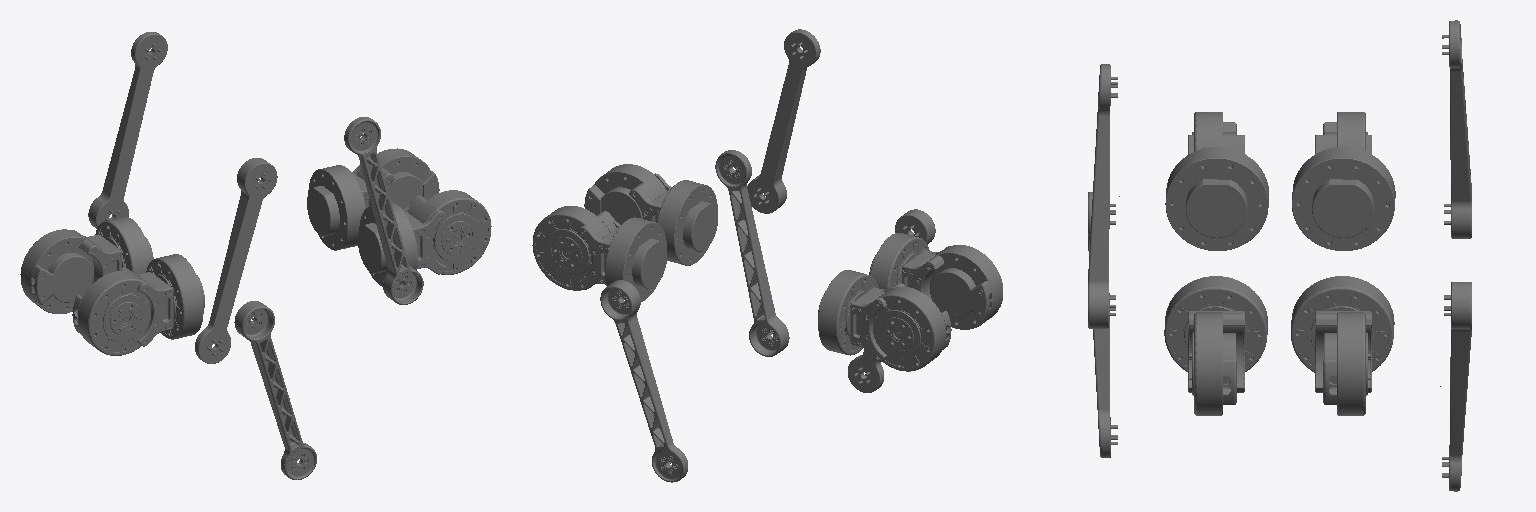
--- Facts derived from the render (not from the file) ---
3 views of the same robot in one strip: view 1: azimuth 30°, elevation 25°; view 2: azimuth 150°, elevation 25°; view 3: azimuth 270°, elevation 25° (orthographic).
Robot: quadruped — 42 links, 41 joints (24 revolute, 17 fixed); root link base_link; default pose: all joints at 0 but 8 set to mid-range because 0 is outside their limits (rear_left_third_joint = 3.11, rear_left_fourth_joint = -1.85, rear_right_third_joint = 3.11, rear_right_fourth_joint = -1.85, front_right_third_joint = 3.11, front_right_fourth_joint = -1.85, +2 more).
Links seen in each view (by area): view 1: rear_right_second_link, rear_left_second_link, front_right_second_link, front_left_fifth_link, rear_left_fifth_link, front_right_fifth_link, rear_right_fifth_link, front_left_first_link, rear_right_first_link, front_left_second_link, front_right_first_link, rear_left_first_link; view 2: rear_left_second_link, rear_right_second_link, front_left_second_link, rear_left_fifth_link, front_left_fifth_link, front_right_fifth_link, front_right_first_link, front_left_first_link, front_right_second_link, rear_left_first_link, rear_right_fifth_link, rear_right_first_link; view 3: rear_left_first_link, rear_right_first_link, front_right_second_link, front_left_second_link, front_left_first_link, front_right_first_link, front_right_fifth_link, rear_left_fifth_link, front_left_fifth_link, rear_right_fifth_link, rear_left_second_link, rear_right_second_link.
Boxes of the visible links, x1,y1,x2,y2 form: rear_right_second_link: (72,267,173,355); rear_left_second_link: (20,229,121,313); front_right_second_link: (403,190,491,274); front_left_fifth_link: (195,158,277,363); rear_left_fifth_link: (88,32,167,228); front_right_fifth_link: (344,117,423,304); rear_right_fifth_link: (234,301,316,479); front_left_first_link: (307,165,365,250); rear_right_first_link: (146,254,204,339); front_left_second_link: (352,148,439,208); front_right_first_link: (358,202,417,286); rear_left_first_link: (95,217,153,273); rear_left_second_link: (850,283,951,371); rear_right_second_link: (902,245,1002,329); front_left_second_link: (532,206,620,290); rear_left_fifth_link: (715,150,789,356); front_left_fifth_link: (600,280,687,482); front_right_fifth_link: (747,29,820,213); front_right_first_link: (657,180,717,265); front_left_first_link: (605,217,666,301); front_right_second_link: (584,164,671,224); rear_left_first_link: (818,270,878,355); rear_right_fifth_link: (848,209,935,392); rear_right_first_link: (869,233,929,289); rear_left_first_link: (1292,147,1395,250); rear_right_first_link: (1165,147,1268,250); front_right_second_link: (1188,311,1244,415); front_left_second_link: (1315,311,1371,415); front_left_first_link: (1291,276,1394,372); front_right_first_link: (1164,276,1267,371); front_right_fifth_link: (1088,64,1117,328); rear_left_fifth_link: (1442,20,1471,238); front_left_fifth_link: (1442,282,1471,491); rear_right_fifth_link: (1088,192,1117,457); rear_left_second_link: (1315,112,1371,153); rear_right_second_link: (1188,112,1244,154).
Size in the robot's own frame: 0.5491 by 0.3655 by 0.4488 metres.
12 mesh visuals loaded from 7 distinct referenced files (3 Collada DAE); not drawn: 13 (reference not matched to a file when rendering).

URDF robot description (quadruped):
<?xml version="1.0" ?>
<!-- =================================================================================== -->
<!-- |    This document was autogenerated by xacro from src/quadruped_robot_description/urdf/quadruped_robot.urdf.xacro | -->
<!-- |    EDITING THIS FILE BY HAND IS NOT RECOMMENDED                                 | -->
<!-- =================================================================================== -->
<robot name="quadruped">
  <gazebo>
    <plugin filename="ign_ros2_control-system" name="ign_ros2_control::IgnitionROS2ControlPlugin">
      <parameters>[local-path]/Documents/quadruped_robot/install/quadruped_controller/share/quadruped_controller/config/jtc_controllers.yaml</parameters>
    </plugin>
    <plugin filename="libignition-gazebo-detachable-joint-system.so" name="ignition::gazebo::systems::DetachableJoint">
      <parent_link>rear_left_foot_link</parent_link>
      <child_model>4BarBot</child_model>
      <child_link>rear_left_chain_close_b_link</child_link>
      <attach_topic>close_loop</attach_topic>
    </plugin>
    <!-- <plugin filename="libattach-links.so" name="ignition::gazebo::::systems::AttachLinks">
      <parent>rear_left_chain_close_a_link</parent>
      <child>rear_left_chain_close_b_link</child>
    </plugin> -->
  </gazebo>
  <mujoco>
    <compiler balanceinertia="true" discardvisual="false" meshdir="[local-path]/Documents/quadruped_robot/install/quadruped_robot_description/share/quadruped_robot_description/meshes"/>
  </mujoco>
  <material name="grey">
    <color rgba="0.5 0.5 0.5 1"/>
  </material>
  <link name="base_link">
    <visual>
      <origin rpy="0 0 3.141592653589793" xyz="0.0 0 0"/>
      <geometry name="base_link">
        <mesh filename="package://quadruped_robot_description/meshes/base_link.dae"/>
      </geometry>
      <material name="grey">
        <color rgba="0.5 0.5 0.5 1.0"/>
      </material>
    </visual>
    <collision>
      <origin rpy="0 0 3.141592653589793" xyz="0.0 0 0"/>
      <geometry name="base_link">
        <mesh filename="package://quadruped_robot_description/meshes/base_link.dae"/>
      </geometry>
    </collision>
    <inertial>
      <origin rpy="0.0 0.0 0.0" xyz="0.01 0 0.06"/>
      <mass value="50.0"/>
      <inertia ixx="0.2526041666666667" ixy="0.0" ixz="0.0" iyy="1.4920833333333334" iyz="0.0" izz="1.6613541666666667"/>
    </inertial>
  </link>
  <link name="imu_link"/>
  <joint name="imu_joint" type="fixed">
    <parent link="base_link"/>
    <child link="imu_link"/>
    <origin rpy=" 0.0 3.141592653589793 0.0" xyz="0.0 0.0 0.1"/>
  </joint>
  <!-- Define the thigh -->
  <link name="rear_left_leg_base_link"/>
  <!-- Define the joints -->
  <joint name="rear_left_base_to_leg_joint" type="fixed">
    <parent link="base_link"/>
    <child link="rear_left_leg_base_link"/>
    <origin rpy="0 0 3.141592653589793" xyz="-0.131 0.06 0.06"/>
  </joint>
  <link name="rear_left_first_link">
    <visual>
      <origin rpy="0 0 0" xyz="0.0 0 0.0"/>
      <geometry>
        <mesh filename="package://quadruped_robot_description/meshes/first_link.dae"/>
      </geometry>
      <material name="grey">
        <color rgba="0.5 0.5 0.5 1.0"/>
      </material>
    </visual>
    <collision name="rear_left_first_link_collision">
      <origin rpy="0 0 0" xyz="0.0 0 0.0"/>
      <geometry>
        <mesh filename="package://quadruped_robot_description/meshes/first_link.dae"/>
      </geometry>
    </collision>
    <inertial>
      <origin rpy="0.0 0.0 0.0" xyz="0.0 0.0 0.0"/>
      <mass value="0.6"/>
      <inertia ixx="0.0004550000000000001" ixy="0" ixz="0" iyy="0.0004550000000000001" iyz="0" izz="0.00075"/>
    </inertial>
  </link>
  <joint name="rear_left_leg_base_to_first_link_joint" type="fixed">
    <parent link="rear_left_leg_base_link"/>
    <child link="rear_left_first_link"/>
    <origin rpy="-1.5707963267948966 0.0 0.0" xyz="0.0 0.0 0.0"/>
  </joint>
  <link name="rear_left_second_link">
    <visual>
      <origin rpy="0 0 0" xyz="0.0 0 0.0"/>
      <geometry>
        <mesh filename="package://quadruped_robot_description/meshes/second_link.dae"/>
      </geometry>
      <material name="grey">
        <color rgba="0.5 0.5 0.5 1.0"/>
      </material>
    </visual>
    <collision name="rear_left_second_link_collision">
      <origin rpy="0 0 0" xyz="0.0 0 0.0"/>
      <geometry>
        <mesh filename="package://quadruped_robot_description/meshes/second_link.dae"/>
      </geometry>
    </collision>
    <inertial>
      <origin rpy="0.0 0.0 0.0" xyz="0.055 0  0"/>
      <mass value="0.6"/>
      <inertia ixx="0.0004550000000000001" ixy="0" ixz="0" iyy="0.0004550000000000001" iyz="0" izz="0.00075"/>
    </inertial>
  </link>
  <joint name="rear_left_first_joint" type="revolute">
    <parent link="rear_left_first_link"/>
    <child link="rear_left_second_link"/>
    <origin rpy="3.141592653589793 0.0 0.0" xyz="0.031 0.0 0.0"/>
    <axis xyz="1 0 0"/>
    <limit effort="100.0" lower="-3.1416" upper="3.1416" velocity="0.1"/>
    <dynamics damping="0.1" friction="0.1"/>
  </joint>
  <link name="rear_left_third_link">
    <visual>
      <origin rpy="0 0 0" xyz="0.0 0 0.0"/>
      <geometry>
        <mesh filename="package://quadruped_robot_description/meshes/third_link.dae"/>
      </geometry>
      <material name="grey">
        <color rgba="0.5 0.5 0.5 1.0"/>
      </material>
    </visual>
    <collision name="rear_left_third_link_collision">
      <origin rpy="0 0 0" xyz="0.0 0 0.0"/>
      <geometry>
        <mesh filename="package://quadruped_robot_description/meshes/third_link.dae"/>
      </geometry>
    </collision>
    <inertial>
      <origin rpy="0.0 0.0 0.0" xyz="0.0 0  0.025"/>
      <mass value="0.6"/>
      <inertia ixx="0.0004550000000000001" ixy="0" ixz="0" iyy="0.0004550000000000001" iyz="0" izz="0.00075"/>
    </inertial>
  </link>
  <joint name="rear_left_second_joint" type="revolute">
    <parent link="rear_left_second_link"/>
    <child link="rear_left_third_link"/>
    <origin rpy="0.0 0.0 3.141592653589793 " xyz="0.064 0.0 0.023"/>
    <axis xyz="0 0 -1"/>
    <limit effort="100.0" lower="-3.14" upper="3.14" velocity="0.1"/>
    <dynamics damping="0.1" friction="0.1"/>
  </joint>
  <link name="rear_left_fourth_link">
    <visual>
      <origin rpy="0 0 0" xyz="0.0 0 0.0"/>
      <geometry>
        <mesh filename="package://quadruped_robot_description/meshes/fourth_link.dae"/>
      </geometry>
      <material name="grey">
        <color rgba="0.5 0.5 0.5 1.0"/>
      </material>
    </visual>
    <collision name="rear_left_fourth_link_collision">
      <origin rpy="0 0 0" xyz="0.0 0 0.0"/>
      <geometry>
        <mesh filename="package://quadruped_robot_description/meshes/fourth_link.dae"/>
      </geometry>
    </collision>
    <inertial>
      <origin rpy="0.0 0.0 0.0" xyz="0.0625 0.0  0.015"/>
      <mass value="0.04"/>
      <inertia ixx="3.1041666666666677e-06" ixy="0.0" ixz="0.0" iyy="0.00010310416666666667" iyz="0.0" izz="0.00010416666666666666"/>
    </inertial>
  </link>
  <joint name="rear_left_third_joint" type="revolute">
    <parent link="rear_left_third_link"/>
    <child link="rear_left_fourth_link"/>
    <origin rpy="0.0 0.0 -3.1415800872191793" xyz="0.0 0.0 0.0555"/>
    <axis xyz="0 0 1"/>
    <limit effort="100.0" lower="0.425" upper="5.8" velocity="0.1"/>
    <!-- <limit effort="100.0" lower="0.425" upper="5.0" velocity="0.1"/> -->
    <dynamics damping="0.1" friction="0.1"/>
  </joint>
  <link name="rear_left_fifth_link">
    <visual>
      <origin rpy="0 0 0" xyz="0.0 0 0.0"/>
      <geometry>
        <mesh filename="package://quadruped_robot_description/meshes/fifth_link.dae"/>
      </geometry>
      <material name="grey">
        <color rgba="0.5 0.5 0.5 1.0"/>
      </material>
    </visual>
    <collision name="rear_left_fifth_link_collision">
      <origin rpy="0 0 0" xyz="0.0 0 0.0"/>
      <geometry>
        <mesh filename="package://quadruped_robot_description/meshes/fifth_link.dae"/>
      </geometry>
    </collision>
    <inertial>
      <origin rpy="0.0 0.0 0.0" xyz="0.105 0  0.0"/>
      <mass value="0.05"/>
      <inertia ixx="7.942708333333334e-06" ixy="0.0" ixz="0.0" iyy="0.0002616927083333333" iyz="0.0" izz="0.00026708333333333337"/>
    </inertial>
  </link>
  <joint name="rear_left_fourth_joint" type="revolute">
    <parent link="rear_left_fourth_link"/>
    <child link="rear_left_fifth_link"/>
    <origin rpy="0.0 0.0 3.141592653589793" xyz="0.125 0.0 0.0255"/>
    <axis xyz="0 0 -1"/>
    <limit effort="  2.0" lower="-0.8" upper="-2.9" velocity="0.1"/>
    <!-- <limit effort="  2.0" lower="-0.3" upper="-2.9" velocity="0.1"/> -->
    <dynamics damping="0.1" friction="0.1"/>
  </joint>
  <link name="rear_left_sixth_link">
    <visual>
      <origin rpy="0 0 0" xyz="0.0 0 0.0"/>
      <geometry>
        <mesh filename="package://quadruped_robot_description/meshes/sixth_link.dae"/>
      </geometry>
      <material name="grey">
        <color rgba="0.5 0.5 0.5 1.0"/>
      </material>
    </visual>
    <collision name="rear_left_sixth_link_collision">
      <origin rpy="0 0 0" xyz="0.0 0 0.0"/>
      <geometry>
        <mesh filename="package://quadruped_robot_description/meshes/sixth_link.dae"/>
      </geometry>
    </collision>
    <inertial>
      <origin rpy="0.0 0.0 0.0" xyz="0.105 0  0.0"/>
      <mass value="0.05"/>
      <inertia ixx="7.942708333333334e-06" ixy="0.0" ixz="0.0" iyy="0.0002616927083333333" iyz="0.0" izz="0.00026708333333333337"/>
    </inertial>
  </link>
  <joint name="rear_left_fifth_joint" type="revolute">
    <parent link="rear_left_third_link"/>
    <child link="rear_left_sixth_link"/>
    <origin rpy="0.0 0.0 0.0" xyz="-0.125 0.0 0.058"/>
    <axis xyz="0 0 -1"/>
    <limit effort="100.0" lower="-3.14" upper="3.14" velocity="0.1"/>
    <!-- <limit effort="100.0" lower="0.28" upper="2.73" velocity="0.1"/> -->
    <dynamics damping="0.1" friction="0.1"/>
  </joint>
  <link name="rear_left_foot_link">
    <visual>
      <origin rpy=" 0 0 0" xyz="0.0 0.0  0.0 "/>
      <geometry>
        <box size="0.0001 0.0001 0.0001 "/>
      </geometry>
      <material name="grey">
        <color rgba="0.5 0.5 0.5 1.0"/>
      </material>
    </visual>
    <collision name="rear_left_foot_link_collision">
      <origin rpy=" 0 0 0" xyz="0.0 0.0  0.0 "/>
      <geometry>
        <box size="0.0001 0.0001 0.0001 "/>
      </geometry>
    </collision>
    <inertial>
      <mass value="2e-06"/>
      <inertia ixx="1.1e-09" ixy="0" ixz="0" iyy="1.1e-09" iyz="0" izz="1.1e-09"/>
    </inertial>
  </link>
  <joint name="rear_left_foot_joint" type="revolute">
    <parent link="rear_left_sixth_link"/>
    <child link="rear_left_foot_link"/>
    <origin rpy="0.0 0.0 0.0" xyz="0.21 0.0 0.0115"/>
    <axis xyz="0 0 1"/>
    <limit effort="100.0" lower="-3.14" upper="3.14" velocity="0.1"/>
    <dynamics damping="0.1" friction="0.1"/>
  </joint>
  <link name="rear_left_chain_close_a_link">
    <visual>
      <origin rpy=" 0 0 0" xyz="0.0 0.0  0.0 "/>
      <geometry>
        <box size="0.0001 0.0001 0.0001 "/>
      </geometry>
      <material name="grey">
        <color rgba="0.5 0.5 0.5 1.0"/>
      </material>
    </visual>
    <collision name="rear_left_chain_close_a_link_collision">
      <origin rpy=" 0 0 0" xyz="0.0 0.0  0.0 "/>
      <geometry>
        <box size="0.0001 0.0001 0.0001 "/>
      </geometry>
    </collision>
    <inertial>
      <mass value="2e-06"/>
      <inertia ixx="1.1e-09" ixy="0" ixz="0" iyy="1.1e-09" iyz="0" izz="1.1e-09"/>
    </inertial>
  </link>
  <joint name="rear_left_chain_close_a_joint" type="fixed">
    <parent link="rear_left_fifth_link"/>
    <child link="rear_left_chain_close_a_link"/>
    <origin rpy="0.0 0.0 0.0" xyz="0.105 0.0 -0.0115"/>
    <axis xyz="0 0 1"/>
  </joint>
  <link name="rear_left_chain_close_b_link">
    <visual>
      <origin rpy=" 0 0 0" xyz="0.0 0.0  0.0 "/>
      <geometry>
        <box size="0.0001 0.0001 0.0001 "/>
      </geometry>
      <material name="grey">
        <color rgba="0.5 0.5 0.5 1.0"/>
      </material>
    </visual>
    <collision name="rear_left_chain_close_b_link_collision">
      <origin rpy=" 0 0 0" xyz="0.0 0.0  0.0 "/>
      <geometry>
        <box size="0.0001 0.0001 0.0001 "/>
      </geometry>
    </collision>
    <inertial>
      <mass value="2e-06"/>
      <inertia ixx="1.1e-09" ixy="0" ixz="0" iyy="1.1e-09" iyz="0" izz="1.1e-09"/>
    </inertial>
  </link>
  <joint name="rear_left_chain_close_b_joint" type="fixed">
    <parent link="rear_left_foot_link"/>
    <child link="rear_left_chain_close_b_link"/>
    <origin rpy="0.0 0.0 0.0" xyz="0.105 0.0 0.0"/>
    <axis xyz="0 0 1"/>
  </joint>
  <!-- Define the thigh -->
  <link name="rear_right_leg_base_link"/>
  <!-- Define the joints -->
  <joint name="rear_right_base_to_leg_joint" type="fixed">
    <parent link="base_link"/>
    <child link="rear_right_leg_base_link"/>
    <origin rpy="0 0 3.141592653589793" xyz="-0.131 -0.06 0.06"/>
  </joint>
  <link name="rear_right_first_link">
    <visual>
      <origin rpy="0 0 0" xyz="0.0 0 0.0"/>
      <geometry>
        <mesh filename="package://quadruped_robot_description/meshes/first_link.dae"/>
      </geometry>
      <material name="grey">
        <color rgba="0.5 0.5 0.5 1.0"/>
      </material>
    </visual>
    <collision name="rear_right_first_link_collision">
      <origin rpy="0 0 0" xyz="0.0 0 0.0"/>
      <geometry>
        <mesh filename="package://quadruped_robot_description/meshes/first_link.dae"/>
      </geometry>
    </collision>
    <inertial>
      <origin rpy="0.0 0.0 0.0" xyz="0.0 0.0 0.0"/>
      <mass value="0.6"/>
      <inertia ixx="0.0004550000000000001" ixy="0" ixz="0" iyy="0.0004550000000000001" iyz="0" izz="0.00075"/>
    </inertial>
  </link>
  <joint name="rear_right_leg_base_to_first_link_joint" type="fixed">
    <parent link="rear_right_leg_base_link"/>
    <child link="rear_right_first_link"/>
    <origin rpy="-1.5707963267948966 0.0 0.0" xyz="0.0 0.0 0.0"/>
  </joint>
  <link name="rear_right_second_link">
    <visual>
      <origin rpy="0 0 0" xyz="0.0 0 0.0"/>
      <geometry>
        <mesh filename="package://quadruped_robot_description/meshes/second_link.dae"/>
      </geometry>
      <material name="grey">
        <color rgba="0.5 0.5 0.5 1.0"/>
      </material>
    </visual>
    <collision name="rear_right_second_link_collision">
      <origin rpy="0 0 0" xyz="0.0 0 0.0"/>
      <geometry>
        <mesh filename="package://quadruped_robot_description/meshes/second_link.dae"/>
      </geometry>
    </collision>
    <inertial>
      <origin rpy="0.0 0.0 0.0" xyz="0.055 0  0"/>
      <mass value="0.6"/>
      <inertia ixx="0.0004550000000000001" ixy="0" ixz="0" iyy="0.0004550000000000001" iyz="0" izz="0.00075"/>
    </inertial>
  </link>
  <joint name="rear_right_first_joint" type="revolute">
    <parent link="rear_right_first_link"/>
    <child link="rear_right_second_link"/>
    <origin rpy="0.0 0.0 0.0" xyz="0.031 0.0 0.0"/>
    <axis xyz="1 0 0"/>
    <limit effort="100.0" lower="-3.1416" upper="3.1416" velocity="0.1"/>
    <dynamics damping="0.1" friction="0.1"/>
  </joint>
  <link name="rear_right_third_link">
    <visual>
      <origin rpy="0 0 0" xyz="0.0 0 0.0"/>
      <geometry>
        <mesh filename="package://quadruped_robot_description/meshes/third_link.dae"/>
      </geometry>
      <material name="grey">
        <color rgba="0.5 0.5 0.5 1.0"/>
      </material>
    </visual>
    <collision name="rear_right_third_link_collision">
      <origin rpy="0 0 0" xyz="0.0 0 0.0"/>
      <geometry>
        <mesh filename="package://quadruped_robot_description/meshes/third_link.dae"/>
      </geometry>
    </collision>
    <inertial>
      <origin rpy="0.0 0.0 0.0" xyz="0.0 0  0.025"/>
      <mass value="0.6"/>
      <inertia ixx="0.0004550000000000001" ixy="0" ixz="0" iyy="0.0004550000000000001" iyz="0" izz="0.00075"/>
    </inertial>
  </link>
  <joint name="rear_right_second_joint" type="revolute">
    <parent link="rear_right_second_link"/>
    <child link="rear_right_third_link"/>
    <origin rpy="0.0 0.0 3.141592653589793 " xyz="0.064 0.0 0.023"/>
    <axis xyz="0 0 1"/>
    <limit effort="100.0" lower="-3.14" upper="3.14" velocity="0.1"/>
    <dynamics damping="0.1" friction="0.1"/>
  </joint>
  <link name="rear_right_fourth_link">
    <visual>
      <origin rpy="0 0 0" xyz="0.0 0 0.0"/>
      <geometry>
        <mesh filename="package://quadruped_robot_description/meshes/fourth_link.dae"/>
      </geometry>
      <material name="grey">
        <color rgba="0.5 0.5 0.5 1.0"/>
      </material>
    </visual>
    <collision name="rear_right_fourth_link_collision">
      <origin rpy="0 0 0" xyz="0.0 0 0.0"/>
      <geometry>
        <mesh filename="package://quadruped_robot_description/meshes/fourth_link.dae"/>
      </geometry>
    </collision>
    <inertial>
      <origin rpy="0.0 0.0 0.0" xyz="0.0625 0.0  0.015"/>
      <mass value="0.04"/>
      <inertia ixx="3.1041666666666677e-06" ixy="0.0" ixz="0.0" iyy="0.00010310416666666667" iyz="0.0" izz="0.00010416666666666666"/>
    </inertial>
  </link>
  <joint name="rear_right_third_joint" type="revolute">
    <parent link="rear_right_third_link"/>
    <child link="rear_right_fourth_link"/>
    <origin rpy="0.0 0.0 3.1415800872191793" xyz="0.0 0.0 0.0555"/>
    <axis xyz="0 0 -1"/>
    <limit effort="100.0" lower="0.425" upper="5.8" velocity="0.1"/>
    <dynamics damping="0.1" friction="0.1"/>
  </joint>
  <link name="rear_right_fifth_link">
    <visual>
      <origin rpy="0 0 0" xyz="0.0 0 0.0"/>
      <geometry>
        <mesh filename="package://quadruped_robot_description/meshes/fifth_link.dae"/>
      </geometry>
      <material name="grey">
        <color rgba="0.5 0.5 0.5 1.0"/>
      </material>
    </visual>
    <collision name="rear_right_fifth_link_collision">
      <origin rpy="0 0 0" xyz="0.0 0 0.0"/>
      <geometry>
        <mesh filename="package://quadruped_robot_description/meshes/fifth_link.dae"/>
      </geometry>
    </collision>
    <inertial>
      <origin rpy="0.0 0.0 0.0" xyz="0.105 0  0.0"/>
      <mass value="0.05"/>
      <inertia ixx="7.942708333333334e-06" ixy="0.0" ixz="0.0" iyy="0.0002616927083333333" iyz="0.0" izz="0.00026708333333333337"/>
    </inertial>
  </link>
  <joint name="rear_right_fourth_joint" type="revolute">
    <parent link="rear_right_fourth_link"/>
    <child link="rear_right_fifth_link"/>
    <origin rpy="0.0 0.0 3.141592653589793" xyz="0.125 0.0 0.0255"/>
    <axis xyz="0 0 -1"/>
    <limit effort="  2.0" lower="-0.8" upper="-2.9" velocity="0.1"/>
    <dynamics damping="0.1" friction="0.1"/>
  </joint>
  <link name="rear_right_sixth_link">
    <visual>
      <origin rpy="0 0 0" xyz="0.0 0 0.0"/>
      <geometry>
        <mesh filename="package://quadruped_robot_description/meshes/sixth_link.dae"/>
      </geometry>
      <material name="grey">
        <color rgba="0.5 0.5 0.5 1.0"/>
      </material>
    </visual>
    <collision name="rear_right_sixth_link_collision">
      <origin rpy="0 0 0" xyz="0.0 0 0.0"/>
      <geometry>
        <mesh filename="package://quadruped_robot_description/meshes/sixth_link.dae"/>
      </geometry>
    </collision>
    <inertial>
      <origin rpy="0.0 0.0 0.0" xyz="0.105 0  0.0"/>
      <mass value="0.05"/>
      <inertia ixx="7.942708333333334e-06" ixy="0.0" ixz="0.0" iyy="0.0002616927083333333" iyz="0.0" izz="0.00026708333333333337"/>
    </inertial>
  </link>
  <joint name="rear_right_fifth_joint" type="revolute">
    <parent link="rear_right_third_link"/>
    <child link="rear_right_sixth_link"/>
    <origin rpy="0.0 0.0 0.0" xyz="-0.125 0.0 0.058"/>
    <axis xyz="0 0 -1"/>
    <limit effort="100.0" lower="-3.14" upper="3.14" velocity="0.1"/>
    <dynamics damping="0.1" friction="0.1"/>
  </joint>
  <link name="rear_right_foot_link">
    <visual>
      <origin rpy=" 0 0 0" xyz="0.0 0.0  0.0 "/>
      <geometry>
        <box size="0.0001 0.0001 0.0001 "/>
      </geometry>
      <material name="grey">
        <color rgba="0.5 0.5 0.5 1.0"/>
      </material>
    </visual>
    <collision name="rear_right_foot_link_collision">
      <origin rpy=" 0 0 0" xyz="0.0 0.0  0.0 "/>
      <geometry>
        <box size="0.0001 0.0001 0.0001 "/>
      </geometry>
    </collision>
    <inertial>
      <mass value="2e-06"/>
      <inertia ixx="1.1e-09" ixy="0" ixz="0" iyy="1.1e-09" iyz="0" izz="1.1e-09"/>
    </inertial>
  </link>
  <joint name="rear_right_foot_joint" type="revolute">
    <parent link="rear_right_sixth_link"/>
    <child link="rear_right_foot_link"/>
    <origin rpy="0.0 0.0 0.0" xyz="0.21 0.0 0.0115"/>
    <axis xyz="0 0 1"/>
    <limit effort="100.0" lower="-3.14" upper="3.14" velocity="0.1"/>
    <dynamics damping="0.1" friction="0.1"/>
  </joint>
  <link name="rear_right_chain_close_a_link">
    <visual>
      <origin rpy=" 0 0 0" xyz="0.0 0.0  0.0 "/>
      <geometry>
        <box size="0.0001 0.0001 0.0001 "/>
      </geometry>
      <material name="grey">
        <color rgba="0.5 0.5 0.5 1.0"/>
      </material>
    </visual>
    <collision name="rear_right_chain_close_a_link_collision">
      <origin rpy=" 0 0 0" xyz="0.0 0.0  0.0 "/>
      <geometry>
        <box size="0.0001 0.0001 0.0001 "/>
      </geometry>
    </collision>
    <inertial>
      <mass value="2e-06"/>
      <inertia ixx="1.1e-09" ixy="0" ixz="0" iyy="1.1e-09" iyz="0" izz="1.1e-09"/>
    </inertial>
  </link>
  <joint name="rear_right_chain_close_a_joint" type="fixed">
    <parent link="rear_right_fifth_link"/>
    <child link="rear_right_chain_close_a_link"/>
    <origin rpy="0.0 0.0 0.0" xyz="0.105 0.0 -0.0115"/>
    <axis xyz="0 0 1"/>
  </joint>
  <link name="rear_right_chain_close_b_link">
    <visual>
      <origin rpy=" 0 0 0" xyz="0.0 0.0  0.0 "/>
      <geometry>
        <box size="0.0001 0.0001 0.0001 "/>
      </geometry>
      <material name="grey">
        <color rgba="0.5 0.5 0.5 1.0"/>
      </material>
    </visual>
    <collision name="rear_right_chain_close_b_link_collision">
      <origin rpy=" 0 0 0" xyz="0.0 0.0  0.0 "/>
      <geometry>
        <box size="0.0001 0.0001 0.0001 "/>
      </geometry>
    </collision>
    <inertial>
      <mass value="2e-06"/>
      <inertia ixx="1.1e-09" ixy="0" ixz="0" iyy="1.1e-09" iyz="0" izz="1.1e-09"/>
    </inertial>
  </link>
  <joint name="rear_right_chain_close_b_joint" type="fixed">
    <parent link="rear_right_foot_link"/>
    <child link="rear_right_chain_close_b_link"/>
    <origin rpy="0.0 0.0 0.0" xyz="0.105 0.0 0.0"/>
    <axis xyz="0 0 1"/>
  </joint>
  <!-- Define the thigh -->
  <link name="front_right_leg_base_link"/>
  <!-- Define the joints -->
  <joint name="front_right_base_to_leg_joint" type="fixed">
    <parent link="base_link"/>
    <child link="front_right_leg_base_link"/>
    <origin rpy="0 0 0" xyz="0.131 -0.06 0.06"/>
  </joint>
  <link name="front_right_first_link">
    <visual>
      <origin rpy="0 0 0" xyz="0.0 0 0.0"/>
      <geometry>
        <mesh filename="package://quadruped_robot_description/meshes/first_link.dae"/>
      </geometry>
      <material name="grey">
        <color rgba="0.5 0.5 0.5 1.0"/>
      </material>
    </visual>
    <collision name="front_right_first_link_collision">
      <origin rpy="0 0 0" xyz="0.0 0 0.0"/>
      <geometry>
        <mesh filename="package://quadruped_robot_description/meshes/first_link.dae"/>
      </geometry>
    </collision>
    <inertial>
      <origin rpy="0.0 0.0 0.0" xyz="0.0 0.0 0.0"/>
      <mass value="0.6"/>
      <inertia ixx="0.0004550000000000001" ixy="0" ixz="0" iyy="0.0004550000000000001" iyz="0" izz="0.00075"/>
    </inertial>
  </link>
  <joint name="front_right_leg_base_to_first_link_joint" type="fixed">
    <parent link="front_right_leg_base_link"/>
    <child link="front_right_first_link"/>
    <origin rpy="-1.5707963267948966 0.0 0.0" xyz="0.0 0.0 0.0"/>
  </joint>
  <link name="front_right_second_link">
    <visual>
      <origin rpy="0 0 0" xyz="0.0 0 0.0"/>
      <geometry>
        <mesh filename="package://quadruped_robot_description/meshes/second_link.dae"/>
      </geometry>
      <material name="grey">
        <color rgba="0.5 0.5 0.5 1.0"/>
      </material>
    </visual>
    <collision name="front_right_second_link_collision">
      <origin rpy="0 0 0" xyz="0.0 0 0.0"/>
      <geometry>
        <mesh filename="package://quadruped_robot_description/meshes/second_link.dae"/>
      </geometry>
    </collision>
    <inertial>
      <origin rpy="0.0 0.0 0.0" xyz="0.055 0  0"/>
      <mass value="0.6"/>
      <inertia ixx="0.0004550000000000001" ixy="0" ixz="0" iyy="0.0004550000000000001" iyz="0" izz="0.00075"/>
    </inertial>
  </link>
  <joint name="front_right_first_joint" type="revolute">
    <parent link="front_right_first_link"/>
    <child link="front_right_second_link"/>
    <origin rpy="3.141592653589793 0.0 0.0" xyz="0.031 0.0 0.0"/>
    <axis xyz="1 0 0"/>
    <limit effort="100.0" lower="-3.1416" upper="3.1416" velocity="0.1"/>
    <dynamics damping="0.1" friction="0.1"/>
  </joint>
  <link name="front_right_third_link">
    <visual>
      <origin rpy="0 0 0" xyz="0.0 0 0.0"/>
      <geometry>
        <mesh filename="package://quadruped_robot_description/meshes/third_link.dae"/>
      </geometry>
      <material name="grey">
        <color rgba="0.5 0.5 0.5 1.0"/>
      </material>
    </visual>
    <collision name="front_right_third_link_collision">
      <origin rpy="0 0 0" xyz="0.0 0 0.0"/>
      <geometry>
        <mesh filename="package://quadruped_robot_description/meshes/third_link.dae"/>
      </geometry>
    </collision>
    <inertial>
      <origin rpy="0.0 0.0 0.0" xyz="0.0 0  0.025"/>
      <mass value="0.6"/>
      <inertia ixx="0.0004550000000000001" ixy="0" ixz="0" iyy="0.0004550000000000001" iyz="0" izz="0.00075"/>
    </inertial>
  </link>
  <joint name="front_right_second_joint" type="revolute">
    <parent link="front_right_second_link"/>
    <child link="front_right_third_link"/>
    <origin rpy="0.0 0.0 3.141592653589793 " xyz="0.064 0.0 0.023"/>
    <axis xyz="0 0 -1"/>
    <limit effort="100.0" lower="-3.14" upper="3.14" velocity="0.1"/>
    <dynamics damping="0.1" friction="0.1"/>
  </joint>
  <link name="front_right_fourth_link">
    <visual>
      <origin rpy="0 0 0" xyz="0.0 0 0.0"/>
      <geometry>
        <mesh filename="package://quadruped_robot_description/meshes/fourth_link.dae"/>
      </geometry>
      <material name="grey">
        <color rgba="0.5 0.5 0.5 1.0"/>
      </material>
    </visual>
    <collision name="front_right_fourth_link_collision">
      <origin rpy="0 0 0" xyz="0.0 0 0.0"/>
      <geometry>
        <mesh filename="package://quadruped_robot_description/meshes/fourth_link.dae"/>
      </geometry>
    </collision>
    <inertial>
      <origin rpy="0.0 0.0 0.0" xyz="0.0625 0.0  0.015"/>
      <mass value="0.04"/>
      <inertia ixx="3.1041666666666677e-06" ixy="0.0" ixz="0.0" iyy="0.00010310416666666667" iyz="0.0" izz="0.00010416666666666666"/>
    </inertial>
  </link>
  <joint name="front_right_third_joint" type="revolute">
    <parent link="front_right_third_link"/>
    <child link="front_right_fourth_link"/>
    <origin rpy="0.0 0.0 -3.1415800872191793" xyz="0.0 0.0 0.0555"/>
    <axis xyz="0 0 1"/>
    <limit effort="100.0" lower="0.425" upper="5.8" velocity="0.1"/>
    <dynamics damping="0.1" friction="0.1"/>
  </joint>
  <link name="front_right_fifth_link">
    <visual>
      <origin rpy="0 0 0" xyz="0.0 0 0.0"/>
      <geometry>
        <mesh filename="package://quadruped_robot_description/meshes/fifth_link.dae"/>
      </geometry>
      <material name="grey">
        <color rgba="0.5 0.5 0.5 1.0"/>
      </material>
    </visual>
    <collision name="front_right_fifth_link_collision">
      <origin rpy="0 0 0" xyz="0.0 0 0.0"/>
      <geometry>
        <mesh filename="package://quadruped_robot_description/meshes/fifth_link.dae"/>
      </geometry>
    </collision>
    <inertial>
      <origin rpy="0.0 0.0 0.0" xyz="0.105 0  0.0"/>
      <mass value="0.05"/>
      <inertia ixx="7.942708333333334e-06" ixy="0.0" ixz="0.0" iyy="0.0002616927083333333" iyz="0.0" izz="0.00026708333333333337"/>
    </inertial>
  </link>
  <joint name="front_right_fourth_joint" type="revolute">
    <parent link="front_right_fourth_link"/>
    <child link="front_right_fifth_link"/>
    <origin rpy="0.0 0.0 3.141592653589793" xyz="0.125 0.0 0.0255"/>
    <axis xyz="0 0 -1"/>
    <limit effort="  2.0" lower="-0.8" upper="-2.9" velocity="0.1"/>
    <dynamics damping="0.1" friction="0.1"/>
  </joint>
  <link name="front_right_sixth_link">
    <visual>
      <origin rpy="0 0 0" xyz="0.0 0 0.0"/>
      <geometry>
        <mesh filename="package://quadruped_robot_description/meshes/sixth_link.dae"/>
      </geometry>
      <material name="grey">
        <color rgba="0.5 0.5 0.5 1.0"/>
      </material>
    </visual>
    <collision name="front_right_sixth_link_collision">
      <origin rpy="0 0 0" xyz="0.0 0 0.0"/>
      <geometry>
        <mesh filename="package://quadruped_robot_description/meshes/sixth_link.dae"/>
      </geometry>
    </collision>
    <inertial>
      <origin rpy="0.0 0.0 0.0" xyz="0.105 0  0.0"/>
      <mass value="0.05"/>
      <inertia ixx="7.942708333333334e-06" ixy="0.0" ixz="0.0" iyy="0.0002616927083333333" iyz="0.0" izz="0.00026708333333333337"/>
    </inertial>
  </link>
  <joint name="front_right_fifth_joint" type="revolute">
    <parent link="front_right_third_link"/>
    <child link="front_right_sixth_link"/>
    <origin rpy="0.0 0.0 0.0" xyz="-0.125 0.0 0.058"/>
    <axis xyz="0 0 -1"/>
    <limit effort="100.0" lower="-3.14" upper="3.14" velocity="0.1"/>
    <dynamics damping="0.1" friction="0.1"/>
  </joint>
  <link name="front_right_foot_link">
    <visual>
      <origin rpy=" 0 0 0" xyz="0.0 0.0  0.0 "/>
      <geometry>
        <box size="0.0001 0.0001 0.0001 "/>
      </geometry>
      <material name="grey">
        <color rgba="0.5 0.5 0.5 1.0"/>
      </material>
    </visual>
    <collision name="front_right_foot_link_collision">
      <origin rpy=" 0 0 0" xyz="0.0 0.0  0.0 "/>
      <geometry>
        <box size="0.0001 0.0001 0.0001 "/>
      </geometry>
    </collision>
    <inertial>
      <mass value="2e-06"/>
      <inertia ixx="1.1e-09" ixy="0" ixz="0" iyy="1.1e-09" iyz="0" izz="1.1e-09"/>
    </inertial>
  </link>
  <joint name="front_right_foot_joint" type="revolute">
    <parent link="front_right_sixth_link"/>
    <child link="front_right_foot_link"/>
    <origin rpy="0.0 0.0 0.0" xyz="0.21 0.0 0.0115"/>
    <axis xyz="0 0 1"/>
    <limit effort="100.0" lower="-3.14" upper="3.14" velocity="0.1"/>
    <dynamics damping="0.1" friction="0.1"/>
  </joint>
  <link name="front_right_chain_close_a_link">
    <visual>
      <origin rpy=" 0 0 0" xyz="0.0 0.0  0.0 "/>
      <geometry>
        <box size="0.0001 0.0001 0.0001 "/>
      </geometry>
      <material name="grey">
        <color rgba="0.5 0.5 0.5 1.0"/>
      </material>
    </visual>
    <collision name="front_right_chain_close_a_link_collision">
      <origin rpy=" 0 0 0" xyz="0.0 0.0  0.0 "/>
      <geometry>
        <box size="0.0001 0.0001 0.0001 "/>
      </geometry>
    </collision>
    <inertial>
      <mass value="2e-06"/>
      <inertia ixx="1.1e-09" ixy="0" ixz="0" iyy="1.1e-09" iyz="0" izz="1.1e-09"/>
    </inertial>
  </link>
  <joint name="front_right_chain_close_a_joint" type="fixed">
    <parent link="front_right_fifth_link"/>
    <child link="front_right_chain_close_a_link"/>
    <origin rpy="0.0 0.0 0.0" xyz="0.105 0.0 -0.0115"/>
    <axis xyz="0 0 1"/>
  </joint>
  <link name="front_right_chain_close_b_link">
    <visual>
      <origin rpy=" 0 0 0" xyz="0.0 0.0  0.0 "/>
      <geometry>
        <box size="0.0001 0.0001 0.0001 "/>
      </geometry>
      <material name="grey">
        <color rgba="0.5 0.5 0.5 1.0"/>
      </material>
    </visual>
    <collision name="front_right_chain_close_b_link_collision">
      <origin rpy=" 0 0 0" xyz="0.0 0.0  0.0 "/>
      <geometry>
        <box size="0.0001 0.0001 0.0001 "/>
      </geometry>
    </collision>
    <inertial>
      <mass value="2e-06"/>
      <inertia ixx="1.1e-09" ixy="0" ixz="0" iyy="1.1e-09" iyz="0" izz="1.1e-09"/>
    </inertial>
  </link>
  <joint name="front_right_chain_close_b_joint" type="fixed">
    <parent link="front_right_foot_link"/>
    <child link="front_right_chain_close_b_link"/>
    <origin rpy="0.0 0.0 0.0" xyz="0.105 0.0 0.0"/>
    <axis xyz="0 0 1"/>
  </joint>
  <!-- Define the thigh -->
  <link name="front_left_leg_base_link"/>
  <!-- Define the joints -->
  <joint name="front_left_base_to_leg_joint" type="fixed">
    <parent link="base_link"/>
    <child link="front_left_leg_base_link"/>
    <origin rpy="0 0 0" xyz="0.131 0.06 0.06"/>
  </joint>
  <link name="front_left_first_link">
    <visual>
      <origin rpy="0 0 0" xyz="0.0 0 0.0"/>
      <geometry>
        <mesh filename="package://quadruped_robot_description/meshes/first_link.dae"/>
      </geometry>
      <material name="grey">
        <color rgba="0.5 0.5 0.5 1.0"/>
      </material>
    </visual>
    <collision name="front_left_first_link_collision">
      <origin rpy="0 0 0" xyz="0.0 0 0.0"/>
      <geometry>
        <mesh filename="package://quadruped_robot_description/meshes/first_link.dae"/>
      </geometry>
    </collision>
    <inertial>
      <origin rpy="0.0 0.0 0.0" xyz="0.0 0.0 0.0"/>
      <mass value="0.6"/>
      <inertia ixx="0.0004550000000000001" ixy="0" ixz="0" iyy="0.0004550000000000001" iyz="0" izz="0.00075"/>
    </inertial>
  </link>
  <joint name="front_left_leg_base_to_first_link_joint" type="fixed">
    <parent link="front_left_leg_base_link"/>
    <child link="front_left_first_link"/>
    <origin rpy="-1.5707963267948966 0.0 0.0" xyz="0.0 0.0 0.0"/>
  </joint>
  <link name="front_left_second_link">
    <visual>
      <origin rpy="0 0 0" xyz="0.0 0 0.0"/>
      <geometry>
        <mesh filename="package://quadruped_robot_description/meshes/second_link.dae"/>
      </geometry>
      <material name="grey">
        <color rgba="0.5 0.5 0.5 1.0"/>
      </material>
    </visual>
    <collision name="front_left_second_link_collision">
      <origin rpy="0 0 0" xyz="0.0 0 0.0"/>
      <geometry>
        <mesh filename="package://quadruped_robot_description/meshes/second_link.dae"/>
      </geometry>
    </collision>
    <inertial>
      <origin rpy="0.0 0.0 0.0" xyz="0.055 0  0"/>
      <mass value="0.6"/>
      <inertia ixx="0.0004550000000000001" ixy="0" ixz="0" iyy="0.0004550000000000001" iyz="0" izz="0.00075"/>
    </inertial>
  </link>
  <joint name="front_left_first_joint" type="revolute">
    <parent link="front_left_first_link"/>
    <child link="front_left_second_link"/>
    <origin rpy="0.0 0.0 0.0" xyz="0.031 0.0 0.0"/>
    <axis xyz="1 0 0"/>
    <limit effort="100.0" lower="-3.1416" upper="3.1416" velocity="0.1"/>
    <dynamics damping="0.1" friction="0.1"/>
  </joint>
  <link name="front_left_third_link">
    <visual>
      <origin rpy="0 0 0" xyz="0.0 0 0.0"/>
      <geometry>
        <mesh filename="package://quadruped_robot_description/meshes/third_link.dae"/>
      </geometry>
      <material name="grey">
        <color rgba="0.5 0.5 0.5 1.0"/>
      </material>
    </visual>
    <collision name="front_left_third_link_collision">
      <origin rpy="0 0 0" xyz="0.0 0 0.0"/>
      <geometry>
        <mesh filename="package://quadruped_robot_description/meshes/third_link.dae"/>
      </geometry>
    </collision>
    <inertial>
      <origin rpy="0.0 0.0 0.0" xyz="0.0 0  0.025"/>
      <mass value="0.6"/>
      <inertia ixx="0.0004550000000000001" ixy="0" ixz="0" iyy="0.0004550000000000001" iyz="0" izz="0.00075"/>
    </inertial>
  </link>
  <joint name="front_left_second_joint" type="revolute">
    <parent link="front_left_second_link"/>
    <child link="front_left_third_link"/>
    <origin rpy="0.0 0.0 3.141592653589793 " xyz="0.064 0.0 0.023"/>
    <axis xyz="0 0 1"/>
    <limit effort="100.0" lower="-3.14" upper="3.14" velocity="0.1"/>
    <dynamics damping="0.1" friction="0.1"/>
  </joint>
  <link name="front_left_fourth_link">
    <visual>
      <origin rpy="0 0 0" xyz="0.0 0 0.0"/>
      <geometry>
        <mesh filename="package://quadruped_robot_description/meshes/fourth_link.dae"/>
      </geometry>
      <material name="grey">
        <color rgba="0.5 0.5 0.5 1.0"/>
      </material>
    </visual>
    <collision name="front_left_fourth_link_collision">
      <origin rpy="0 0 0" xyz="0.0 0 0.0"/>
      <geometry>
        <mesh filename="package://quadruped_robot_description/meshes/fourth_link.dae"/>
      </geometry>
    </collision>
    <inertial>
      <origin rpy="0.0 0.0 0.0" xyz="0.0625 0.0  0.015"/>
      <mass value="0.04"/>
      <inertia ixx="3.1041666666666677e-06" ixy="0.0" ixz="0.0" iyy="0.00010310416666666667" iyz="0.0" izz="0.00010416666666666666"/>
    </inertial>
  </link>
  <joint name="front_left_third_joint" type="revolute">
    <parent link="front_left_third_link"/>
    <child link="front_left_fourth_link"/>
    <origin rpy="0.0 0.0 3.1415800872191793" xyz="0.0 0.0 0.0555"/>
    <axis xyz="0 0 -1"/>
    <limit effort="100.0" lower="0.425" upper="5.8" velocity="0.1"/>
    <dynamics damping="0.1" friction="0.1"/>
  </joint>
  <link name="front_left_fifth_link">
    <visual>
      <origin rpy="0 0 0" xyz="0.0 0 0.0"/>
      <geometry>
        <mesh filename="package://quadruped_robot_description/meshes/fifth_link.dae"/>
      </geometry>
      <material name="grey">
        <color rgba="0.5 0.5 0.5 1.0"/>
      </material>
    </visual>
    <collision name="front_left_fifth_link_collision">
      <origin rpy="0 0 0" xyz="0.0 0 0.0"/>
      <geometry>
        <mesh filename="package://quadruped_robot_description/meshes/fifth_link.dae"/>
      </geometry>
    </collision>
    <inertial>
      <origin rpy="0.0 0.0 0.0" xyz="0.105 0  0.0"/>
      <mass value="0.05"/>
      <inertia ixx="7.942708333333334e-06" ixy="0.0" ixz="0.0" iyy="0.0002616927083333333" iyz="0.0" izz="0.00026708333333333337"/>
    </inertial>
  </link>
  <joint name="front_left_fourth_joint" type="revolute">
    <parent link="front_left_fourth_link"/>
    <child link="front_left_fifth_link"/>
    <origin rpy="0.0 0.0 3.141592653589793" xyz="0.125 0.0 0.0255"/>
    <axis xyz="0 0 -1"/>
    <limit effort="  2.0" lower="-0.8" upper="-2.9" velocity="0.1"/>
    <dynamics damping="0.1" friction="0.1"/>
  </joint>
  <link name="front_left_sixth_link">
    <visual>
      <origin rpy="0 0 0" xyz="0.0 0 0.0"/>
      <geometry>
        <mesh filename="package://quadruped_robot_description/meshes/sixth_link.dae"/>
      </geometry>
      <material name="grey">
        <color rgba="0.5 0.5 0.5 1.0"/>
      </material>
    </visual>
    <collision name="front_left_sixth_link_collision">
      <origin rpy="0 0 0" xyz="0.0 0 0.0"/>
      <geometry>
        <mesh filename="package://quadruped_robot_description/meshes/sixth_link.dae"/>
      </geometry>
    </collision>
    <inertial>
      <origin rpy="0.0 0.0 0.0" xyz="0.105 0  0.0"/>
      <mass value="0.05"/>
      <inertia ixx="7.942708333333334e-06" ixy="0.0" ixz="0.0" iyy="0.0002616927083333333" iyz="0.0" izz="0.00026708333333333337"/>
    </inertial>
  </link>
  <joint name="front_left_fifth_joint" type="revolute">
    <parent link="front_left_third_link"/>
    <child link="front_left_sixth_link"/>
    <origin rpy="0.0 0.0 0.0" xyz="-0.125 0.0 0.058"/>
    <axis xyz="0 0 -1"/>
    <limit effort="100.0" lower="-3.14" upper="3.14" velocity="0.1"/>
    <dynamics damping="0.1" friction="0.1"/>
  </joint>
  <link name="front_left_foot_link">
    <visual>
      <origin rpy=" 0 0 0" xyz="0.0 0.0  0.0 "/>
      <geometry>
        <box size="0.0001 0.0001 0.0001 "/>
      </geometry>
      <material name="grey">
        <color rgba="0.5 0.5 0.5 1.0"/>
      </material>
    </visual>
    <collision name="front_left_foot_link_collision">
      <origin rpy=" 0 0 0" xyz="0.0 0.0  0.0 "/>
      <geometry>
        <box size="0.0001 0.0001 0.0001 "/>
      </geometry>
    </collision>
    <inertial>
      <mass value="2e-06"/>
      <inertia ixx="1.1e-09" ixy="0" ixz="0" iyy="1.1e-09" iyz="0" izz="1.1e-09"/>
    </inertial>
  </link>
  <joint name="front_left_foot_joint" type="revolute">
    <parent link="front_left_sixth_link"/>
    <child link="front_left_foot_link"/>
    <origin rpy="0.0 0.0 0.0" xyz="0.21 0.0 0.0115"/>
    <axis xyz="0 0 1"/>
    <limit effort="100.0" lower="-3.14" upper="3.14" velocity="0.1"/>
    <dynamics damping="0.1" friction="0.1"/>
  </joint>
  <link name="front_left_chain_close_a_link">
    <visual>
      <origin rpy=" 0 0 0" xyz="0.0 0.0  0.0 "/>
      <geometry>
        <box size="0.0001 0.0001 0.0001 "/>
      </geometry>
      <material name="grey">
        <color rgba="0.5 0.5 0.5 1.0"/>
      </material>
    </visual>
    <collision name="front_left_chain_close_a_link_collision">
      <origin rpy=" 0 0 0" xyz="0.0 0.0  0.0 "/>
      <geometry>
        <box size="0.0001 0.0001 0.0001 "/>
      </geometry>
    </collision>
    <inertial>
      <mass value="2e-06"/>
      <inertia ixx="1.1e-09" ixy="0" ixz="0" iyy="1.1e-09" iyz="0" izz="1.1e-09"/>
    </inertial>
  </link>
  <joint name="front_left_chain_close_a_joint" type="fixed">
    <parent link="front_left_fifth_link"/>
    <child link="front_left_chain_close_a_link"/>
    <origin rpy="0.0 0.0 0.0" xyz="0.105 0.0 -0.0115"/>
    <axis xyz="0 0 1"/>
  </joint>
  <link name="front_left_chain_close_b_link">
    <visual>
      <origin rpy=" 0 0 0" xyz="0.0 0.0  0.0 "/>
      <geometry>
        <box size="0.0001 0.0001 0.0001 "/>
      </geometry>
      <material name="grey">
        <color rgba="0.5 0.5 0.5 1.0"/>
      </material>
    </visual>
    <collision name="front_left_chain_close_b_link_collision">
      <origin rpy=" 0 0 0" xyz="0.0 0.0  0.0 "/>
      <geometry>
        <box size="0.0001 0.0001 0.0001 "/>
      </geometry>
    </collision>
    <inertial>
      <mass value="2e-06"/>
      <inertia ixx="1.1e-09" ixy="0" ixz="0" iyy="1.1e-09" iyz="0" izz="1.1e-09"/>
    </inertial>
  </link>
  <joint name="front_left_chain_close_b_joint" type="fixed">
    <parent link="front_left_foot_link"/>
    <child link="front_left_chain_close_b_link"/>
    <origin rpy="0.0 0.0 0.0" xyz="0.105 0.0 0.0"/>
    <axis xyz="0 0 1"/>
  </joint>
  <ros2_control name="MD80HardwareInterface" type="system">
    <hardware>
      <plugin>mujoco_ros2_control/MujocoSystem</plugin>
    </hardware>
     <joint name="front_left_first_joint">
      <command_interface name="effort">
          <param name="front_left_first_joint_kp">0.00001</param>
          <param name="kd">0.0</param>
          <param name="ki">0.0</param>
      </command_interface>
      <state_interface name="position">
        <param name="initial_value">0.0</param>
      </state_interface>
      <state_interface name="velocity">
        <param name="initial_value">0.0</param>
        <param name="max">0.1</param>
        <param name="min">-0.1</param>
      </state_interface>
      <state_interface name="effort">
        <param name="initial_value">0.0</param>
      </state_interface>
      <param name="can_id">10</param>
      <param name="max_torque">15.0</param>
      <param name="position_kp">10.0</param>
      <param name="q_ki">0.5</param>
      <param name="position_kd">0.0</param>
      <param name="q_windup">1.0</param>
      <param name="dq_kp">2.0</param>
      <param name="dq_ki">0.5</param>
      <param name="dq_kd">0.0</param>
      <param name="dq_windup">0.1</param>
      <param name="ddq_kp">25</param>
      <param name="ddq_kd">5.0</param>
    </joint>
    <joint name="front_left_second_joint">
      <command_interface name="effort">
        <!-- <param name="front_left_second_joint_kp">0.00001</param> -->
          <param name="kp">0.001</param>
          <param name="kd">1</param>
          <param name="ki">0.1</param>
        </command_interface>
      <state_interface name="position">
        <param name="initial_value">0.0</param>
      </state_interface>
      <state_interface name="velocity">
        <param name="initial_value">0.0</param>
        <param name="max">0.1</param>
        <param name="min">-0.1</param>
      </state_interface>
      <state_interface name="effort">
        <param name="initial_value">0.0</param>
      </state_interface>
      <param name="can_id">11</param>
      <param name="max_torque">10.0</param>
      <param name="position_kp">10.0</param>
      <param name="q_ki">0.5</param>
      <param name="position_kd">0.0</param>
      <param name="q_windup">1.0</param>
      <param name="dq_kp">2.0</param>
      <param name="dq_ki">0.5</param>
      <param name="dq_kd">0.0</param>
      <param name="dq_windup">0.1</param>
      <param name="ddq_kp">7.5</param>
      <param name="ddq_kd">1.0</param>
    </joint>
    <joint name="front_left_third_joint">
      <command_interface name="effort">
          <param name="kp">10</param>
          <param name="kd">1</param>
          <param name="ki">0.1</param>
      </command_interface>
      <state_interface name="position">
        <param name="initial_value">2.82</param>
      </state_interface>
      <state_interface name="velocity">
        <param name="initial_value">0.0</param>
      </state_interface>
      <state_interface name="effort">
        <param name="initial_value">0.0</param>
      </state_interface>
      <param name="can_id">12</param>
      <param name="max_torque">10.0</param>
      <param name="position_kp">10.0</param>
      <param name="q_ki">0.5</param>
      <param name="position_kd">0.0</param>
      <param name="q_windup">1.0</param>
      <param name="dq_kp">2.0</param>
      <param name="dq_ki">0.5</param>
      <param name="dq_kd">0.0</param>
      <param name="dq_windup">0.1</param>
      <param name="ddq_kp">7.5</param>
      <param name="ddq_kd">1.0</param>
    </joint>

    <!-- <joint name="front_left_fourth_joint">
      <state_interface name="position">
      </state_interface>
      <state_interface name="velocity">
        <param name="initial_value">0.0</param>
      </state_interface>
      <state_interface name="effort">
      </state_interface>
    </joint>

    <joint name="front_left_fifth_joint">
      <state_interface name="position">
      </state_interface>
      <state_interface name="velocity">
        <param name="initial_value">0.0</param>
      </state_interface>
      <state_interface name="effort">
      </state_interface>
    </joint> -->

    <joint name="front_right_first_joint">
      <command_interface name="effort"/>
      <state_interface name="position">
        <param name="initial_value">0.0</param>
      </state_interface>
      <state_interface name="velocity">
        <param name="initial_value">0.0</param>
      </state_interface>
      <state_interface name="effort">
        <param name="initial_value">0.0</param>
      </state_interface>
      <param name="can_id">20</param>
      <param name="max_torque">15.0</param>
      <param name="position_kp">10.0</param>
      <param name="q_ki">0.5</param>
      <param name="position_kd">0.0</param>
      <param name="q_windup">1.0</param>
      <param name="dq_kp">2.0</param>
      <param name="dq_ki">0.5</param>
      <param name="dq_kd">0.0</param>
      <param name="dq_windup">0.1</param>
      <param name="ddq_kp">25</param>
      <param name="ddq_kd">5.0</param>
    </joint>
    <joint name="front_right_second_joint">
      <command_interface name="effort"/>
      <state_interface name="position">
        <param name="initial_value">0.4</param>
      </state_interface>
      <state_interface name="velocity">
        <param name="initial_value">0.0</param>
      </state_interface>
      <state_interface name="effort">
        <param name="initial_value">0.0</param>
      </state_interface>
      <param name="can_id">21</param>
      <param name="max_torque">10.0</param>
      <param name="position_kp">10.0</param>
      <param name="q_ki">0.5</param>
      <param name="position_kd">0.0</param>
      <param name="q_windup">1.0</param>
      <param name="dq_kp">2.0</param>
      <param name="dq_ki">0.5</param>
      <param name="dq_kd">0.0</param>
      <param name="dq_windup">0.1</param>
      <param name="ddq_kp">7.5</param>
      <param name="ddq_kd">1.0</param>
    </joint>
    <joint name="front_right_third_joint">
      <command_interface name="effort"/>
      <state_interface name="position">
        <param name="initial_value">1.42</param>
      </state_interface>
      <state_interface name="velocity">
        <param name="initial_value">0.0</param>
      </state_interface>
      <state_interface name="effort">
        <param name="initial_value">0.0</param>
      </state_interface>
      <param name="can_id">22</param>
      <param name="max_torque">10.0</param>
      <param name="position_kp">10.0</param>
      <param name="q_ki">0.5</param>
      <param name="position_kd">0.0</param>
      <param name="q_windup">1.0</param>
      <param name="dq_kp">2.0</param>
      <param name="dq_ki">0.5</param>
      <param name="dq_kd">0.0</param>
      <param name="dq_windup">0.1</param>
      <param name="ddq_kp">7.5</param>
      <param name="ddq_kd">1.0</param>
    </joint>
    <joint name="rear_right_first_joint">
      <command_interface name="effort"/>
      <state_interface name="position">
        <param name="initial_value">0.0</param>
      </state_interface>
      <state_interface name="velocity">
        <param name="initial_value">0.0</param>
      </state_interface>
      <state_interface name="effort">
        <param name="initial_value">0.0</param>
      </state_interface>
      <param name="can_id">30</param>
      <param name="max_torque">15.0</param>
      <param name="position_kp">10.0</param>
      <param name="q_ki">0.5</param>
      <param name="position_kd">0.0</param>
      <param name="q_windup">1.0</param>
      <param name="dq_kp">2.0</param>
      <param name="dq_ki">0.5</param>
      <param name="dq_kd">0.0</param>
      <param name="dq_windup">0.1</param>
      <param name="ddq_kp">25</param>
      <param name="ddq_kd">5.0</param>
    </joint>
    <joint name="rear_right_second_joint">
      <command_interface name="effort"/>
      <state_interface name="position">
        <param name="initial_value">0.4</param>
      </state_interface>
      <state_interface name="velocity">
        <param name="initial_value">0.0</param>
      </state_interface>
      <state_interface name="effort">
        <param name="initial_value">0.0</param>
      </state_interface>
      <param name="can_id">31</param>
      <param name="max_torque">10.0</param>
      <param name="position_kp">10.0</param>
      <param name="q_ki">0.5</param>
      <param name="position_kd">0.0</param>
      <param name="q_windup">1.0</param>
      <param name="dq_kp">2.0</param>
      <param name="dq_ki">0.5</param>
      <param name="dq_kd">0.0</param>
      <param name="dq_windup">0.1</param>
      <param name="ddq_kp">7.5</param>
      <param name="ddq_kd">1.0</param>
    </joint>
    <joint name="rear_right_third_joint">
      <command_interface name="effort"/>
      <state_interface name="position">
        <param name="initial_value">1.4</param>
      </state_interface>
      <state_interface name="velocity">
        <param name="initial_value">0.0</param>
      </state_interface>
      <state_interface name="effort">
        <param name="initial_value">0.0</param>
      </state_interface>
      <param name="can_id">32</param>
      <param name="max_torque">10.0</param>
      <param name="position_kp">10.0</param>
      <param name="q_ki">0.5</param>
      <param name="position_kd">0.0</param>
      <param name="q_windup">1.0</param>
      <param name="dq_kp">2.0</param>
      <param name="dq_ki">0.5</param>
      <param name="dq_kd">0.0</param>
      <param name="dq_windup">0.1</param>
      <param name="ddq_kp">7.5</param>
      <param name="ddq_kd">1.0</param>
    </joint>
    <joint name="rear_left_first_joint">
      <command_interface name="effort"/>
      <state_interface name="position">
        <param name="initial_value">0.0</param>
      </state_interface>
      <state_interface name="velocity">
        <param name="initial_value">0.0</param>
      </state_interface>
      <state_interface name="effort">
        <param name="initial_value">0.0</param>
      </state_interface>
      <param name="can_id">40</param>
      <param name="max_torque">15.0</param>
      <param name="position_kp">10.0</param>
      <param name="q_ki">0.5</param>
      <param name="position_kd">0.0</param>
      <param name="q_windup">1.0</param>
      <param name="dq_kp">2.0</param>
      <param name="dq_ki">0.5</param>
      <param name="dq_kd">0.0</param>
      <param name="dq_windup">0.1</param>
      <param name="ddq_kp">25</param>
      <param name="ddq_kd">5.0</param>
    </joint>
    <joint name="rear_left_second_joint">
      <command_interface name="effort"/>
      <state_interface name="position">
        <param name="initial_value">0.4</param>
      </state_interface>
      <state_interface name="velocity">
        <param name="initial_value">0.0</param>
      </state_interface>
      <state_interface name="effort">
        <param name="initial_value">0.0</param>
      </state_interface>
      <param name="can_id">41</param>
      <param name="max_torque">10.0</param>
      <param name="position_kp">10.0</param>
      <param name="q_ki">0.5</param>
      <param name="position_kd">0.0</param>
      <param name="q_windup">1.0</param>
      <param name="dq_kp">2.0</param>
      <param name="dq_ki">0.5</param>
      <param name="dq_kd">0.0</param>
      <param name="dq_windup">0.1</param>
      <param name="ddq_kp">7.5</param>
      <param name="ddq_kd">1.0</param>
    </joint>
    <joint name="rear_left_third_joint">
      <command_interface name="effort"/>
      <state_interface name="position">
        <param name="initial_value">1.42</param>
      </state_interface>
      <state_interface name="velocity">
        <param name="initial_value">0.0</param>
      </state_interface>
      <state_interface name="effort">
        <param name="initial_value">0.0</param>
      </state_interface>
      <param name="can_id">42</param>
      <param name="max_torque">10.0</param>
      <param name="position_kp">10.0</param>
      <param name="q_ki">0.5</param>
      <param name="position_kd">0.0</param>
      <param name="q_windup">1.0</param>
      <param name="dq_kp">2.0</param>
      <param name="dq_ki">0.5</param>
      <param name="dq_kd">0.0</param>
      <param name="dq_windup">0.1</param>
      <param name="ddq_kp">7.5</param>
      <param name="ddq_kd">1.0</param>
    </joint>
    <!-- <xacro:ros2_control_passive_point name="rear_left_fourth_joint" />
    <xacro:ros2_control_passive_point name="rear_left_fifth_joint" /> -->
  </ros2_control>
  <!-- <xacro:imu_ros2_control/> -->
</robot>
